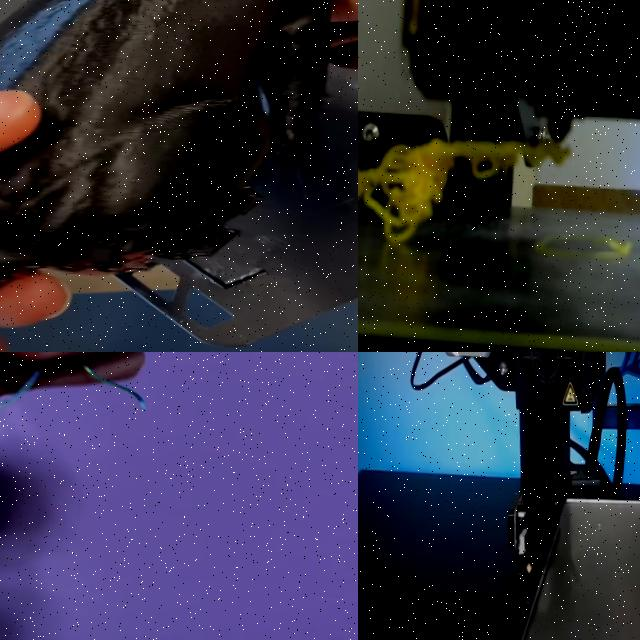spaghetti: (358, 138, 568, 243)
